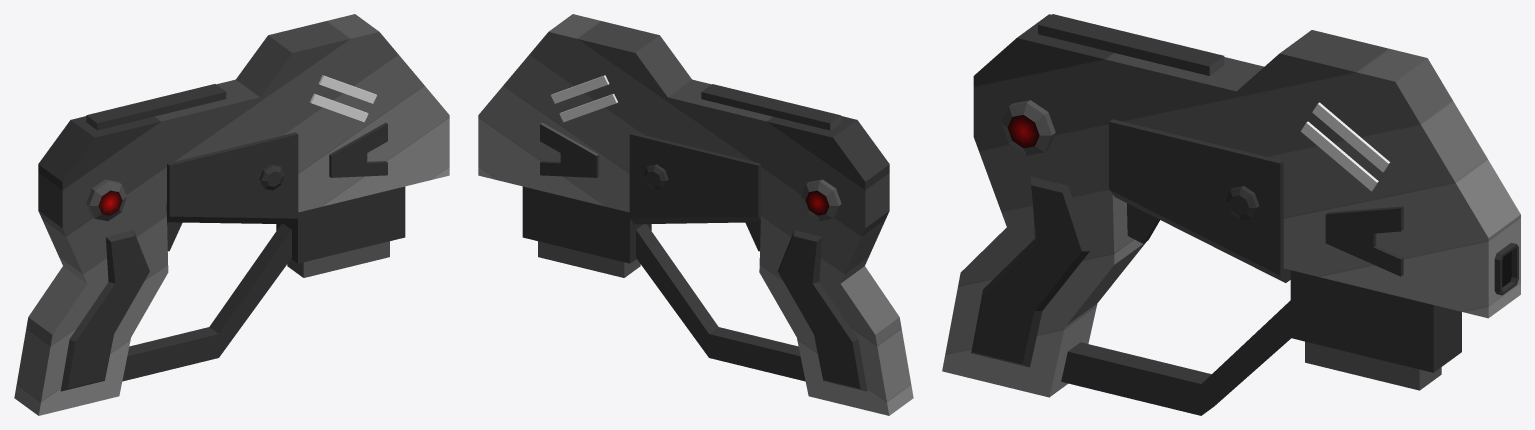
File: Handgun_D_V2.FBX
3 renders of one model, left to right at view 1: azimuth 30°, elevation 25°; view 2: azimuth 150°, elevation 25°; view 3: azimuth 330°, elevation 25°, orthographic. The views are drawn at different scales.
Parts seen in each view (by area): view 1: Handgun_D_V2, Magazine; view 2: Handgun_D_V2, Magazine; view 3: Handgun_D_V2, Magazine.
Boxes of the visible parts, x1,y1,x2,y2 form: Handgun_D_V2: (14,14,449,415); Magazine: (287,241,389,277); Handgun_D_V2: (478,14,913,415); Magazine: (538,241,640,277); Handgun_D_V2: (942,14,1520,415); Magazine: (1305,341,1441,390).
Bounding box in the file's own units: 133 × 92.39 × 20.38.
